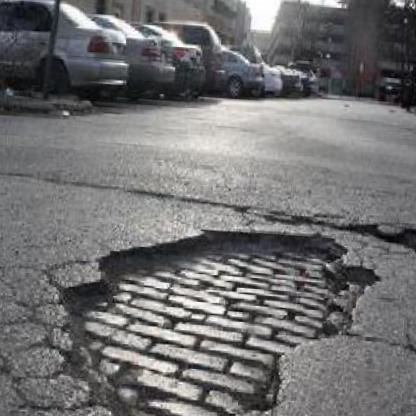pothole: (34, 208, 377, 416), (382, 220, 416, 265)
